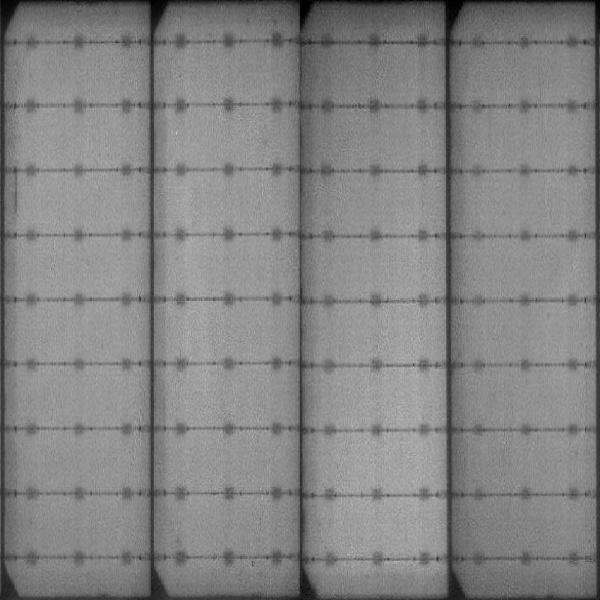scratch: (12, 168, 20, 217)
